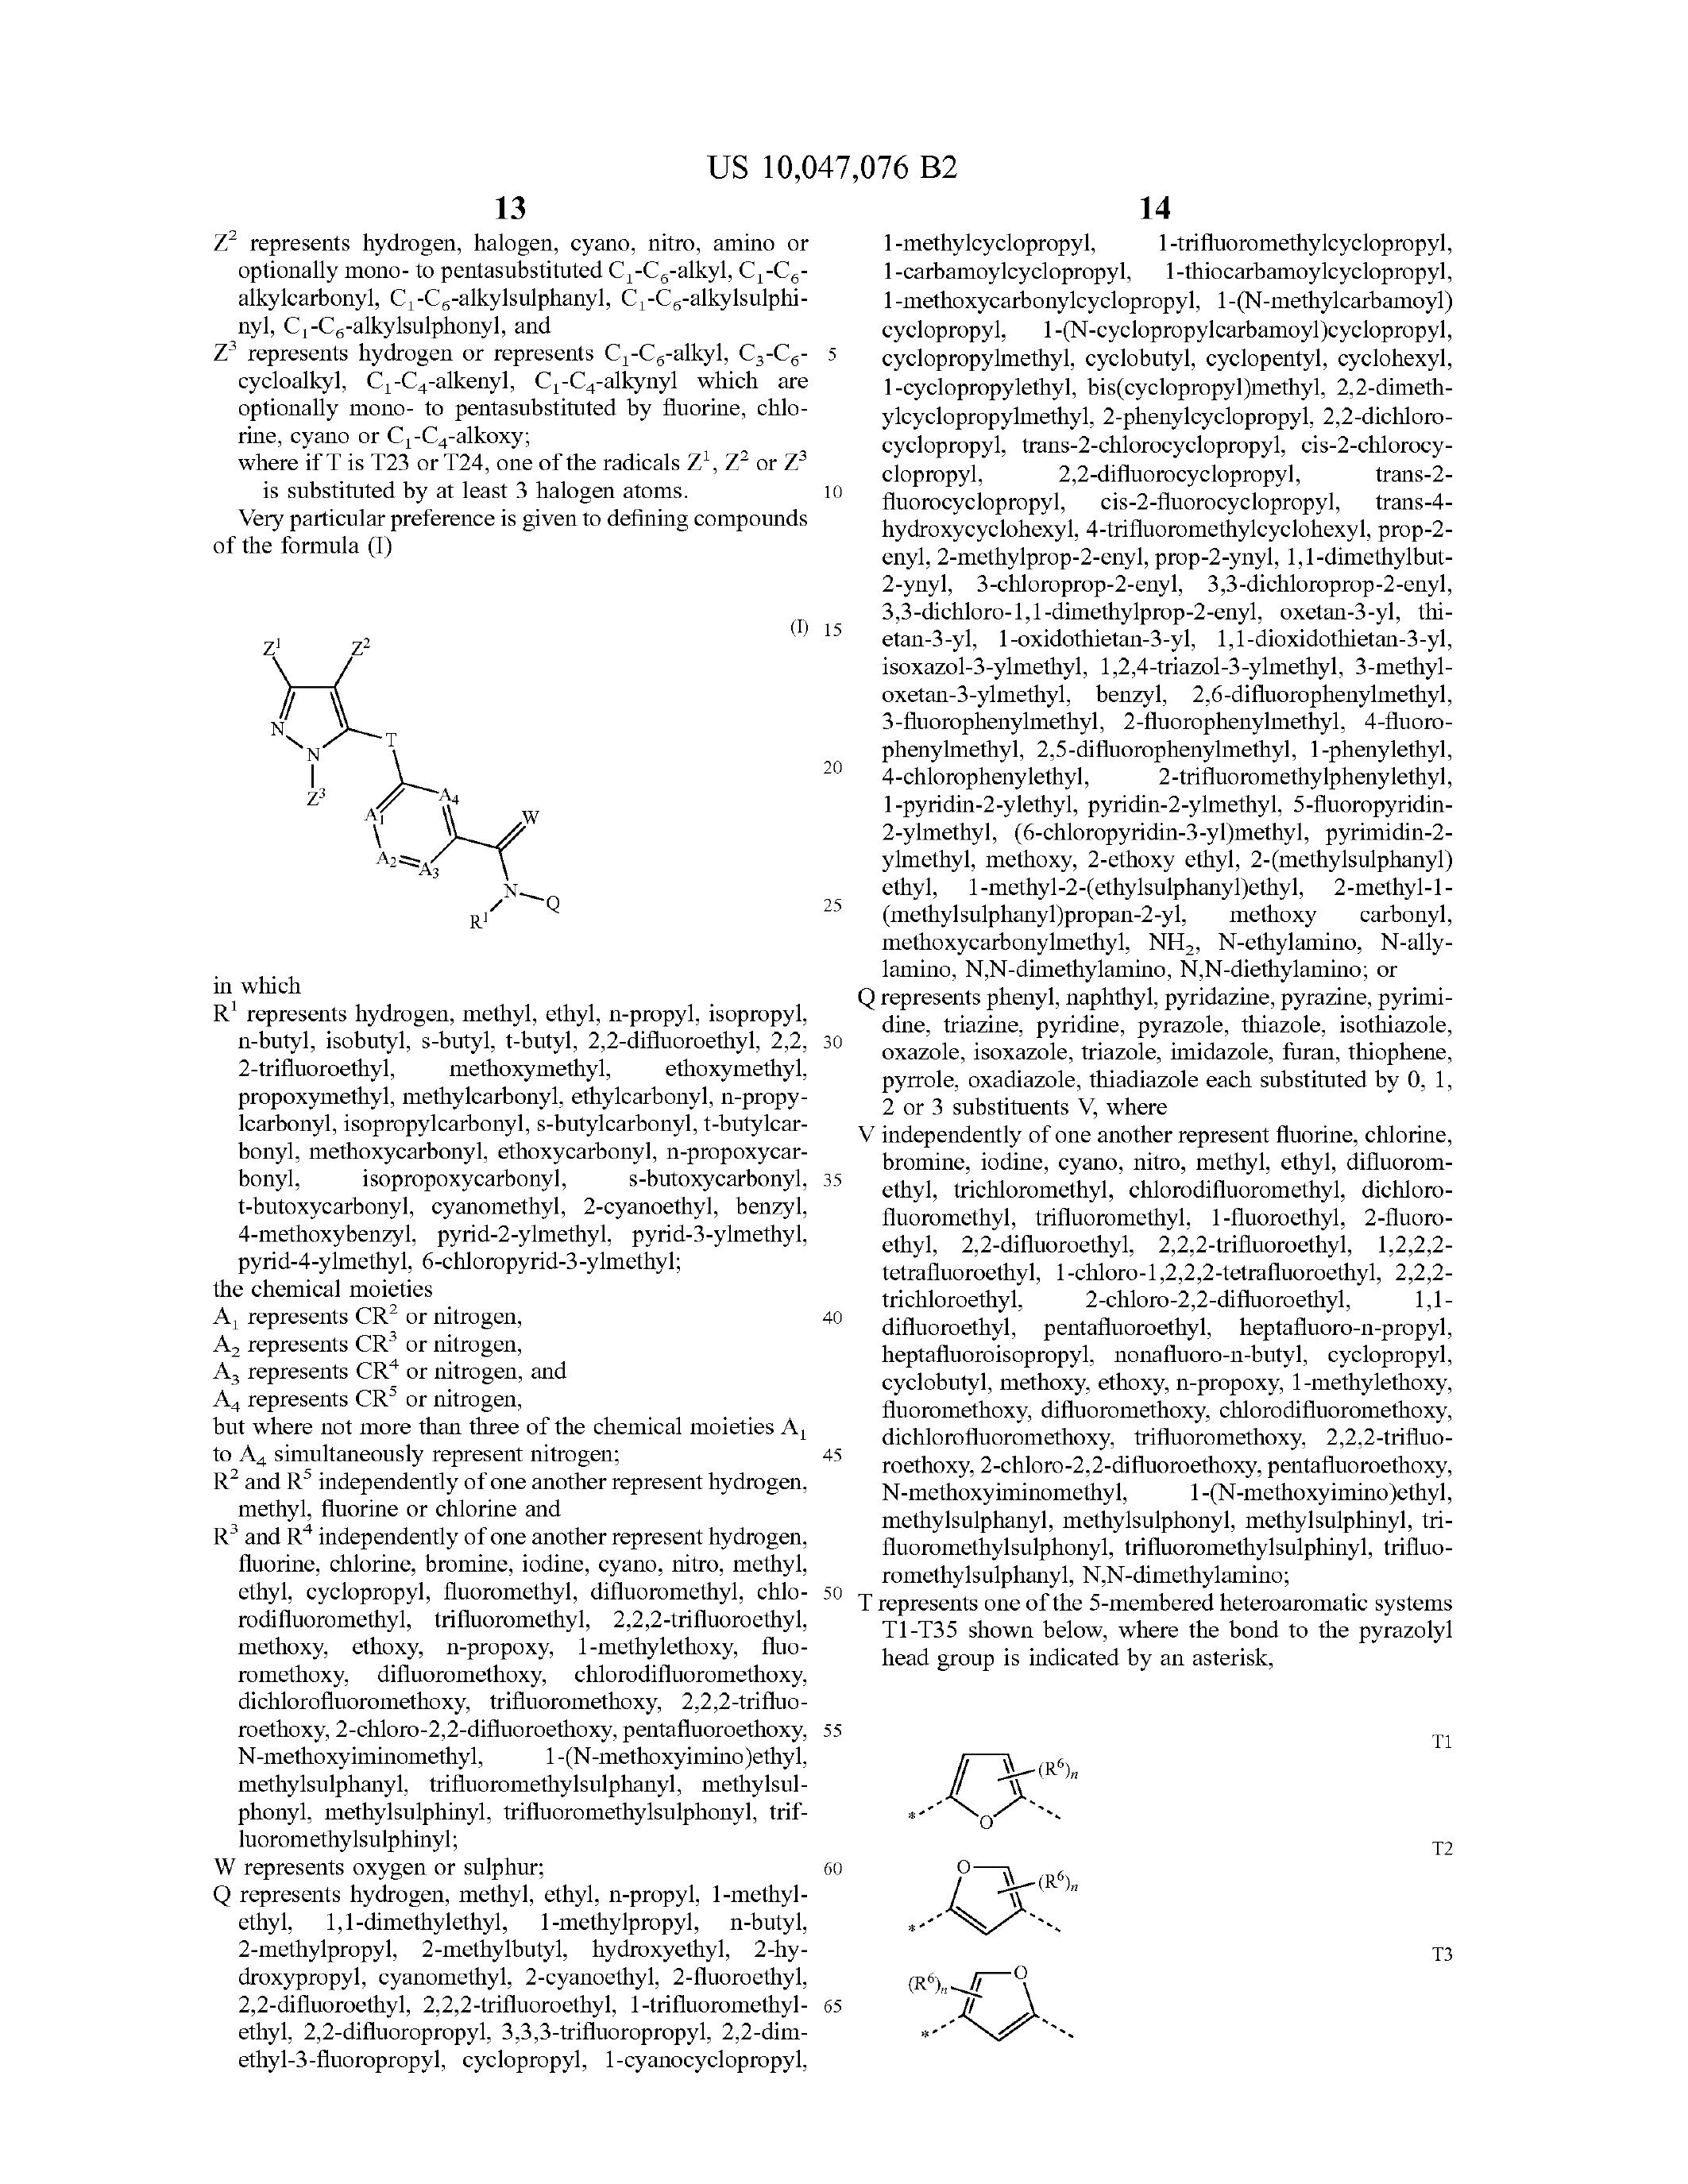intermediates: (871, 1695, 1105, 2074)
markush-structures: (167, 608, 628, 945)
